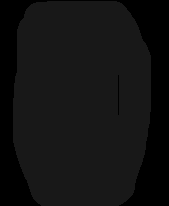fp: (4, 1, 169, 204)
